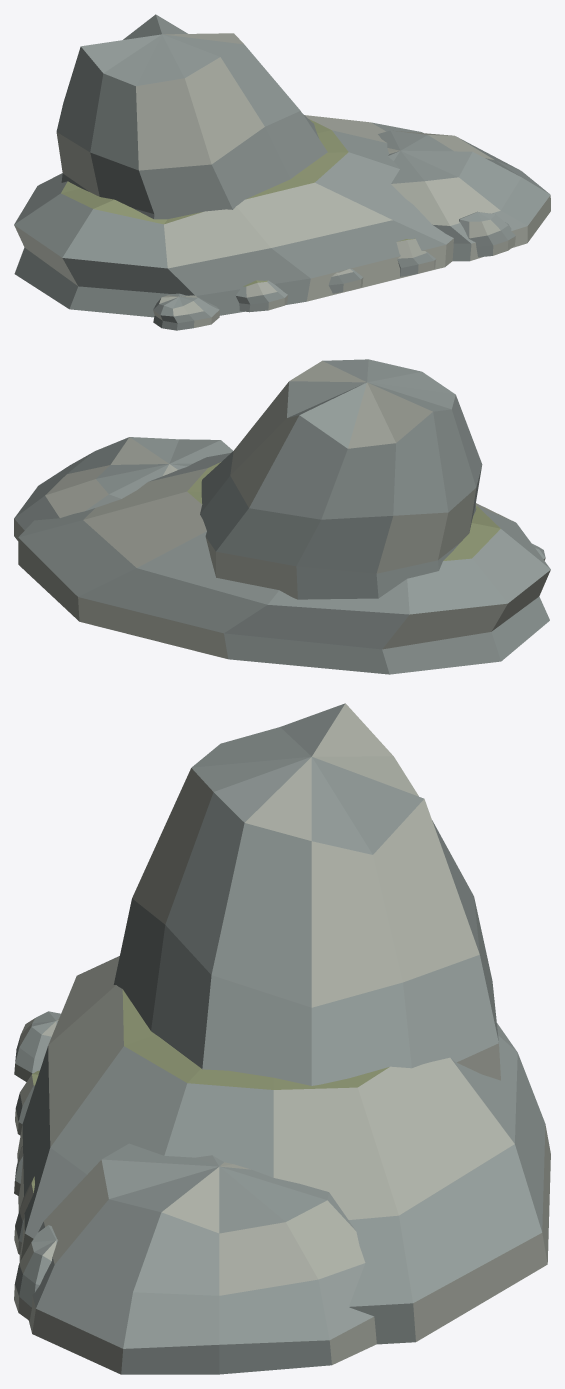
The model's file is CoastalHeadland.glb.
3 renders of one model, top to bottom at view 1: azimuth 30°, elevation 25°; view 2: azimuth 150°, elevation 25°; view 3: azimuth 270°, elevation 25°, orthographic. The views are drawn at different scales.
Visible parts, largest first — view 1: Basalt headland footing, Fractured sea stack, Low seaward shelf, Tumbled shore block, Tumbled shore block.004, Tumbled shore block.001, Tumbled shore block.003, Tumbled shore block.002; view 2: Basalt headland footing, Fractured sea stack, Low seaward shelf; view 3: Fractured sea stack, Basalt headland footing, Low seaward shelf, Tumbled shore block.004, Tumbled shore block.
Boxes of the visible parts, bbox=[...] form: Basalt headland footing: bbox=[14, 115, 453, 317]; Fractured sea stack: bbox=[56, 14, 327, 219]; Low seaward shelf: bbox=[378, 130, 550, 261]; Tumbled shore block: bbox=[153, 293, 219, 330]; Tumbled shore block.004: bbox=[459, 211, 515, 257]; Tumbled shore block.001: bbox=[235, 280, 287, 312]; Tumbled shore block.003: bbox=[396, 238, 436, 276]; Tumbled shore block.002: bbox=[328, 268, 363, 293]; Basalt headland footing: bbox=[18, 453, 550, 674]; Fractured sea stack: bbox=[200, 359, 482, 599]; Low seaward shelf: bbox=[14, 437, 232, 540]; Fractured sea stack: bbox=[113, 703, 500, 1085]; Basalt headland footing: bbox=[17, 956, 550, 1344]; Low seaward shelf: bbox=[28, 1143, 376, 1374]; Tumbled shore block.004: bbox=[14, 1225, 57, 1320]; Tumbled shore block: bbox=[14, 1011, 60, 1081].
Bounding box in the file's own units: 16.39 × 7.18 × 9.88.
